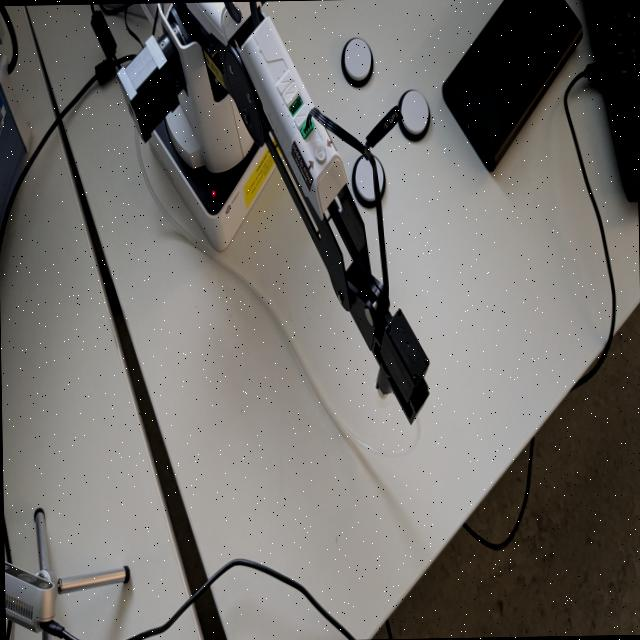Robot-end-effector-HF8z: (370, 300, 434, 429)
